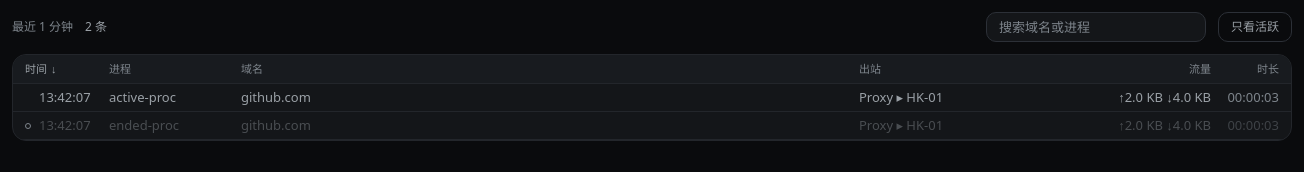
Test case: ConnectionsPage › 「只看活跃」隐藏已结束行，关闭后恢复
Expected: the text "ended-proc" is shown, top-left (109, 116), bottom-right (179, 134)
Expected: the row with class "ended" that starts with "ended-proc" is shown, top-left (13, 112), bottom-right (1291, 140)
Click the button "只看活跃" at (1255, 27), box top-left (1218, 12), bottom-right (1292, 42)
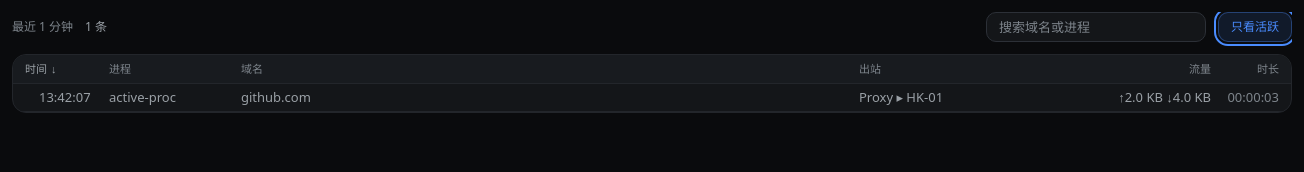
Expected: the text "active-proc" is shown, top-left (109, 88), bottom-right (176, 106)
Result: the text "ended-proc" is gone
Click the button "只看活跃" at (1255, 27), box top-left (1218, 12), bottom-right (1292, 42)
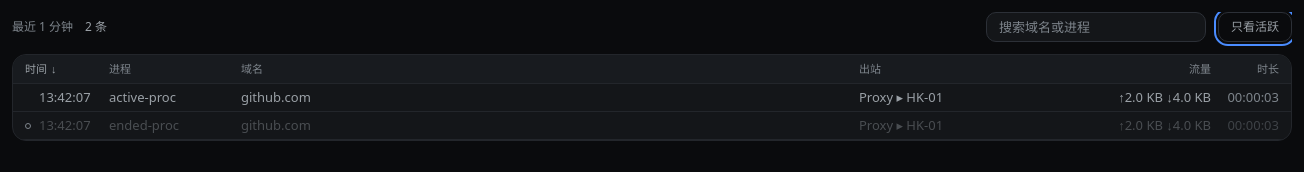
Result: the text "ended-proc" is shown at top-left (109, 116), bottom-right (179, 134)
